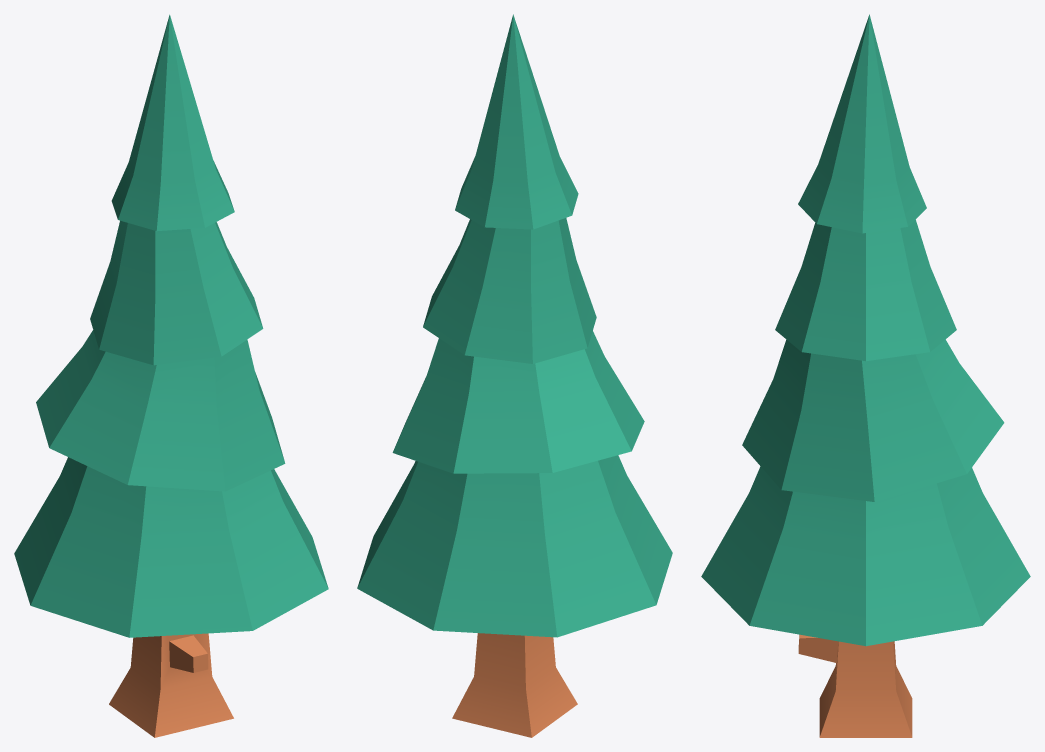
File: treeCrooked.fbx
3 renders of one model, left to right at view 1: azimuth 30°, elevation 25°; view 2: azimuth 150°, elevation 25°; view 3: azimuth 270°, elevation 25°, orthographic.
Parts seen in each view (by area): view 1: treeCrooked; view 2: treeCrooked; view 3: treeCrooked.
Boxes of the visible parts, bbox=[...] form: treeCrooked: bbox=[14, 14, 328, 737]; treeCrooked: bbox=[357, 14, 672, 737]; treeCrooked: bbox=[701, 14, 1030, 737].
Size of the model in its own units: 10.23 by 24.13 by 10.23.
